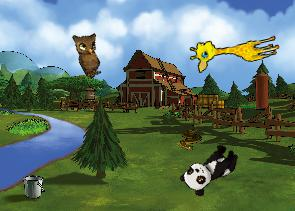giraffe: (187, 24, 281, 74)
owl: (67, 26, 113, 80)
panda: (177, 137, 243, 200)
